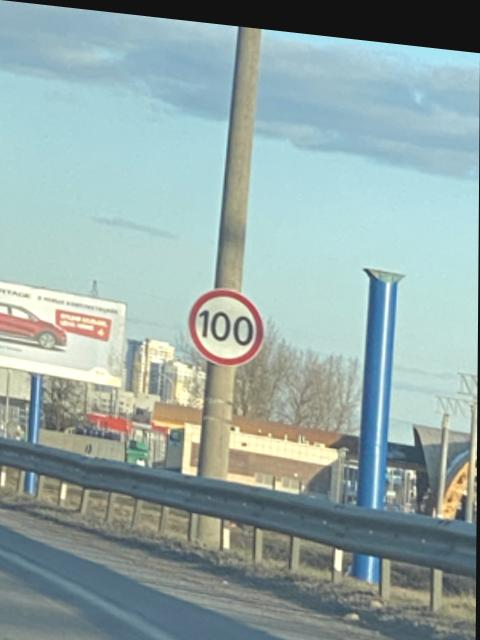limit100: (187, 276, 269, 369)
